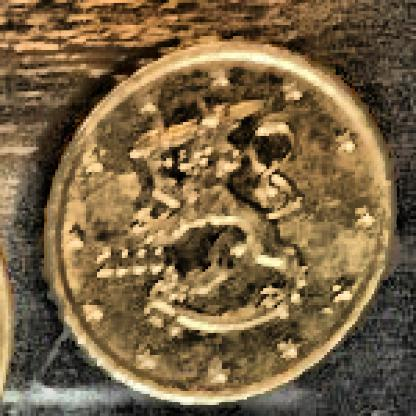coin: (45, 33, 398, 405)
